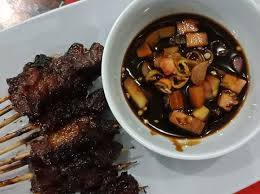sate: (4, 30, 150, 193)
